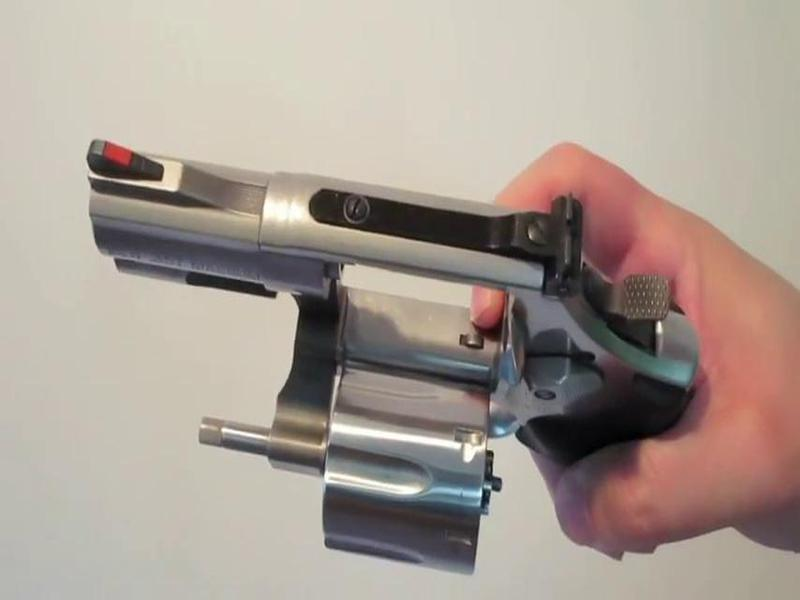Revolver: (72, 104, 724, 570)
